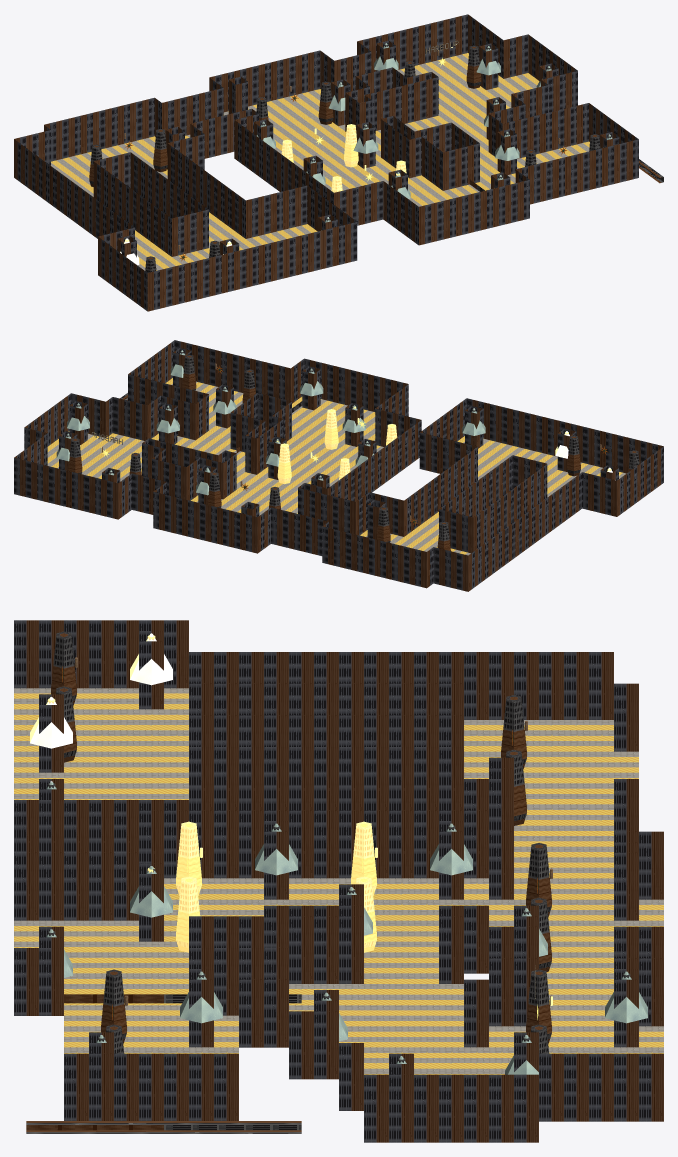
Rendered from level.gltf.
3 views of the same model, one above another, from view 1: azimuth 30°, elevation 25°; view 2: azimuth 150°, elevation 25°; view 3: azimuth 270°, elevation 25° (orthographic). The views are drawn at different scales.
Visible parts, largest first — view 1: SCENE_GRID, PROP_ACTOR_3; view 2: SCENE_GRID, PROP_ACTOR_10, PROP_ACTOR_3, PROP_ACTOR_15; view 3: SCENE_GRID, PROP_ACTOR_15, PROP_ACTOR_16, PROP_ACTOR_5, PROP_ACTOR_3, PROP_ACTOR_2, PROP_ACTOR_4, PROP_ACTOR_11.
Boxes of the visible parts, <box> form: SCENE_GRID: <box>14,14,638,311</box>; PROP_ACTOR_3: <box>374,43,612,147</box>; SCENE_GRID: <box>14,340,663,591</box>; PROP_ACTOR_10: <box>67,403,356,433</box>; PROP_ACTOR_3: <box>56,350,184,475</box>; PROP_ACTOR_15: <box>124,368,323,453</box>; SCENE_GRID: <box>14,620,663,1142</box>; PROP_ACTOR_15: <box>26,929,301,1130</box>; PROP_ACTOR_16: <box>26,965,535,1133</box>; PROP_ACTOR_5: <box>52,697,472,889</box>; PROP_ACTOR_3: <box>96,971,647,1074</box>; PROP_ACTOR_2: <box>180,971,222,1023</box>; PROP_ACTOR_4: <box>30,697,72,748</box>; PROP_ACTOR_11: <box>130,866,172,917</box>.
Size of what is drawn, in the model's own units: 43 by 3.92 by 26.
2 materials, 2 textured.
